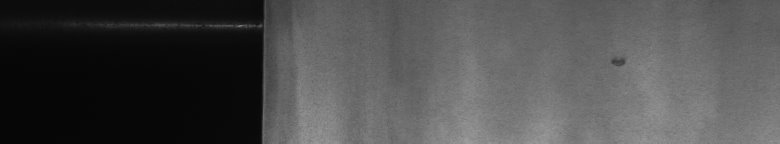fi: (608, 52, 630, 72)
